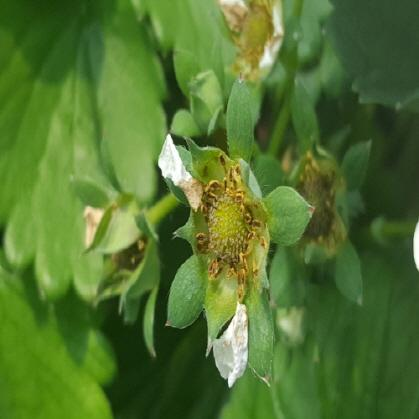Blossom Blight: (192, 148, 271, 302)
